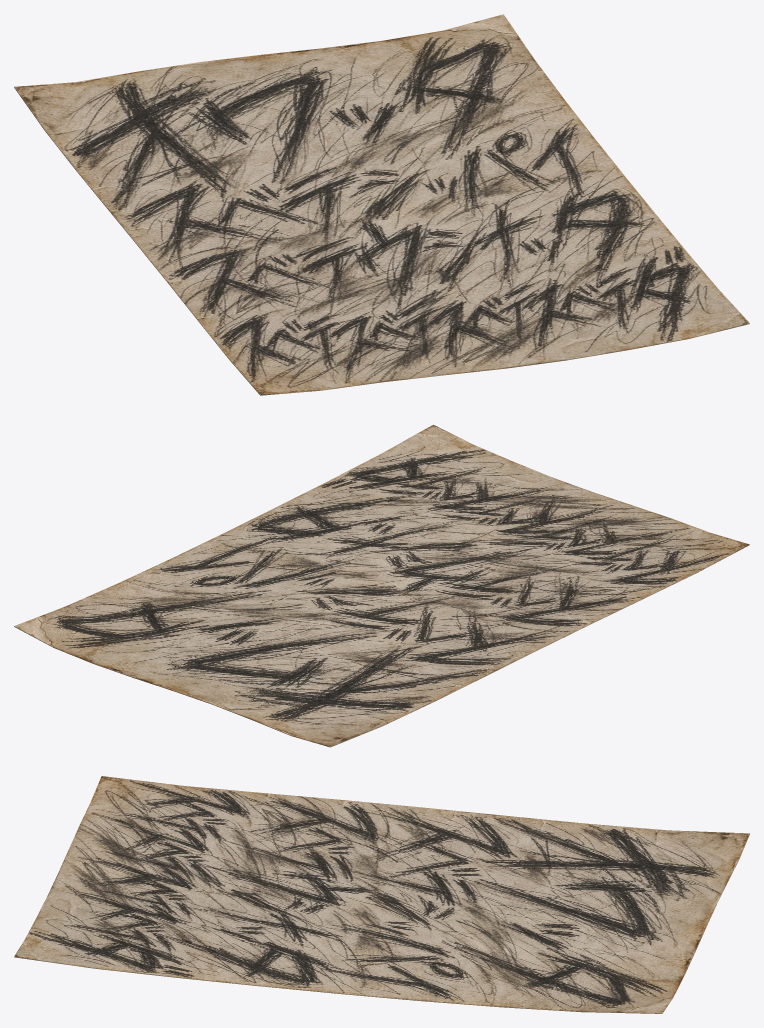
File: despair-note-v2.glb
The picture shows the model from 3 angles, top to bottom: view 1: azimuth 30°, elevation 25°; view 2: azimuth 150°, elevation 25°; view 3: azimuth 270°, elevation 25°; orthographic projection. The views are drawn at different scales.
Visible parts, largest first — view 1: Mysterious handwritten note; view 2: Mysterious handwritten note; view 3: Mysterious handwritten note.
Boxes of the visible parts, x1=… form: Mysterious handwritten note: x1=14, y1=14, x2=749, y2=395; Mysterious handwritten note: x1=14, y1=424, x2=749, y2=747; Mysterious handwritten note: x1=14, y1=776, x2=749, y2=1013.
Bounding box in the file's own units: 0.3962 × 0.00744 × 0.5173.
1 material, 1 textured.
